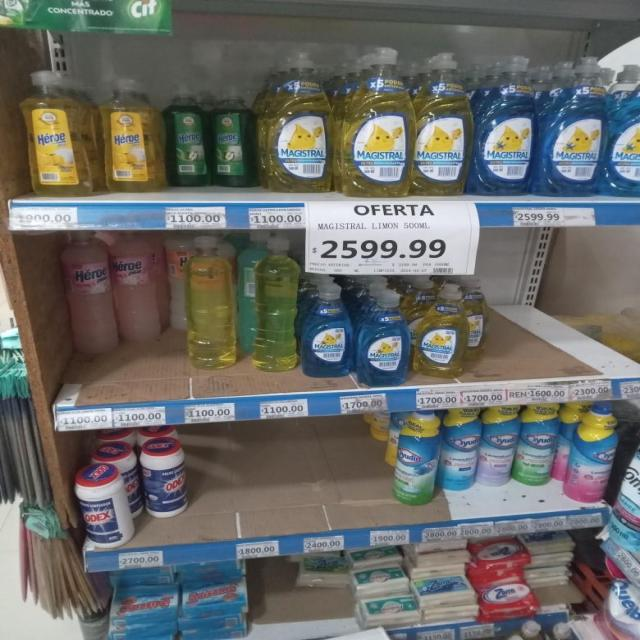heroe: (15, 68, 96, 198), (99, 76, 164, 194), (60, 228, 113, 356), (113, 229, 164, 343)
magistral_con_amarillo: (340, 45, 412, 197), (263, 46, 335, 194), (413, 50, 471, 197), (415, 283, 465, 379), (464, 281, 490, 365)
magistral_con_azul: (539, 55, 603, 197), (473, 53, 535, 197), (356, 289, 410, 387), (605, 57, 640, 198), (302, 282, 353, 378)
